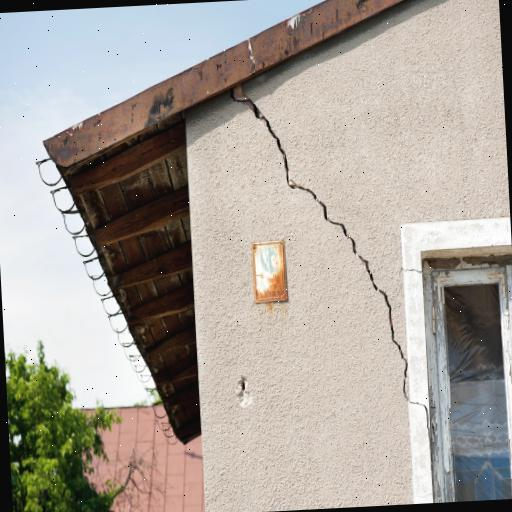spalling: (238, 96, 418, 419)
